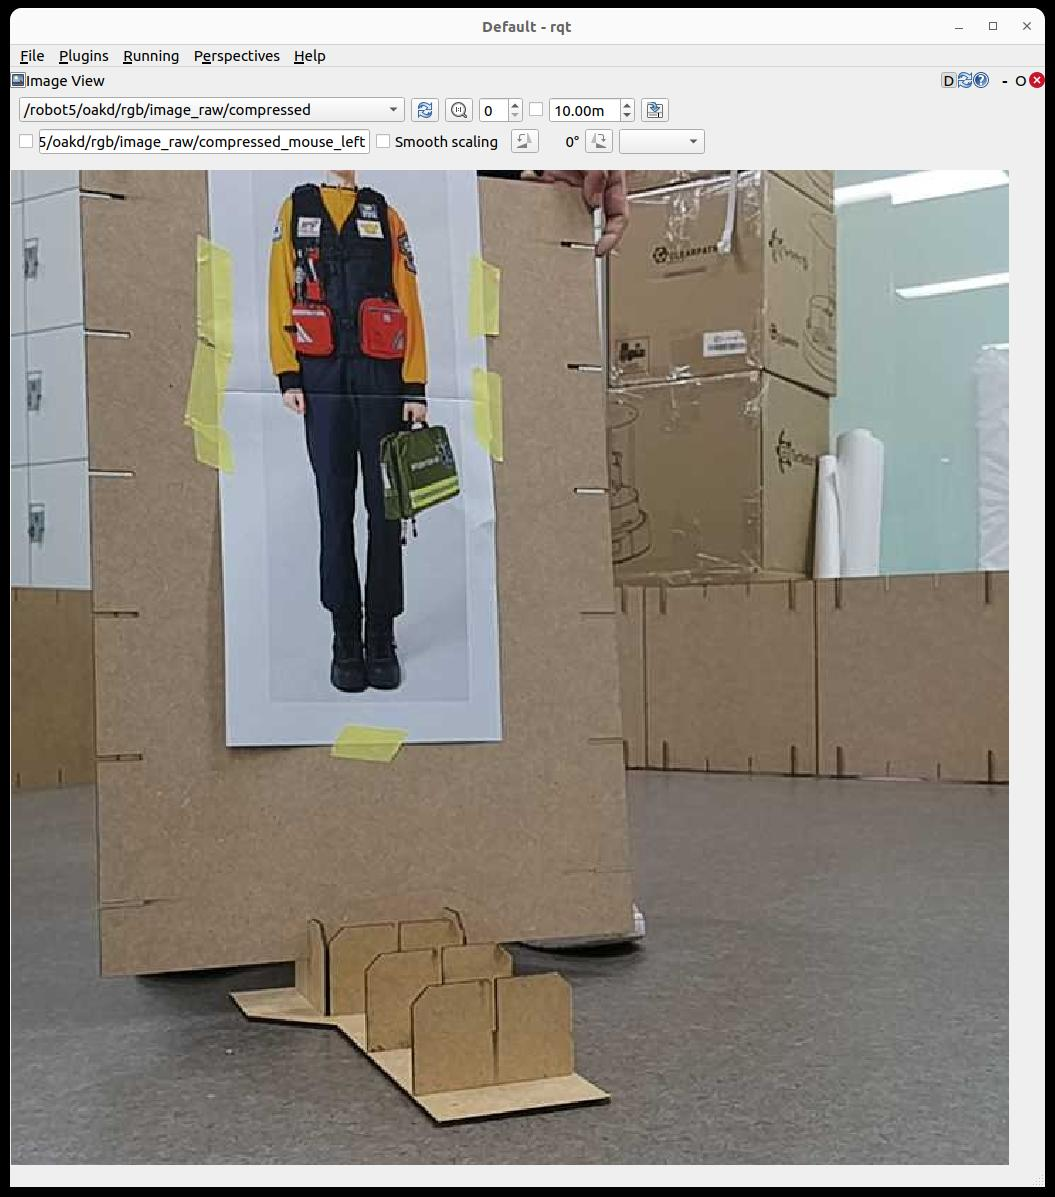Responder: (267, 172, 427, 692)
